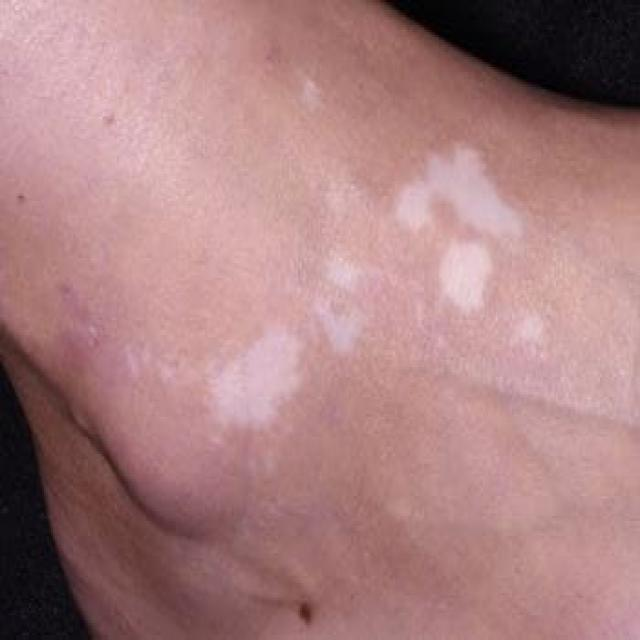vitiligo: (335, 87, 556, 360), (141, 287, 391, 445)
